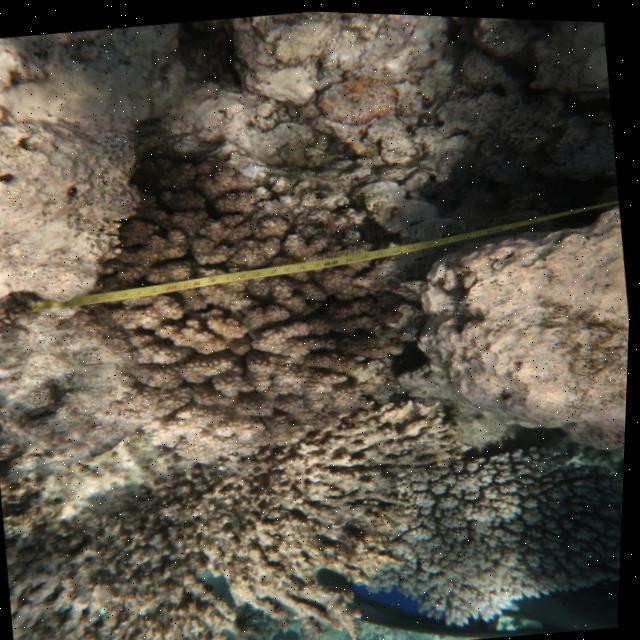Healthy Coral: (86, 143, 442, 434)
